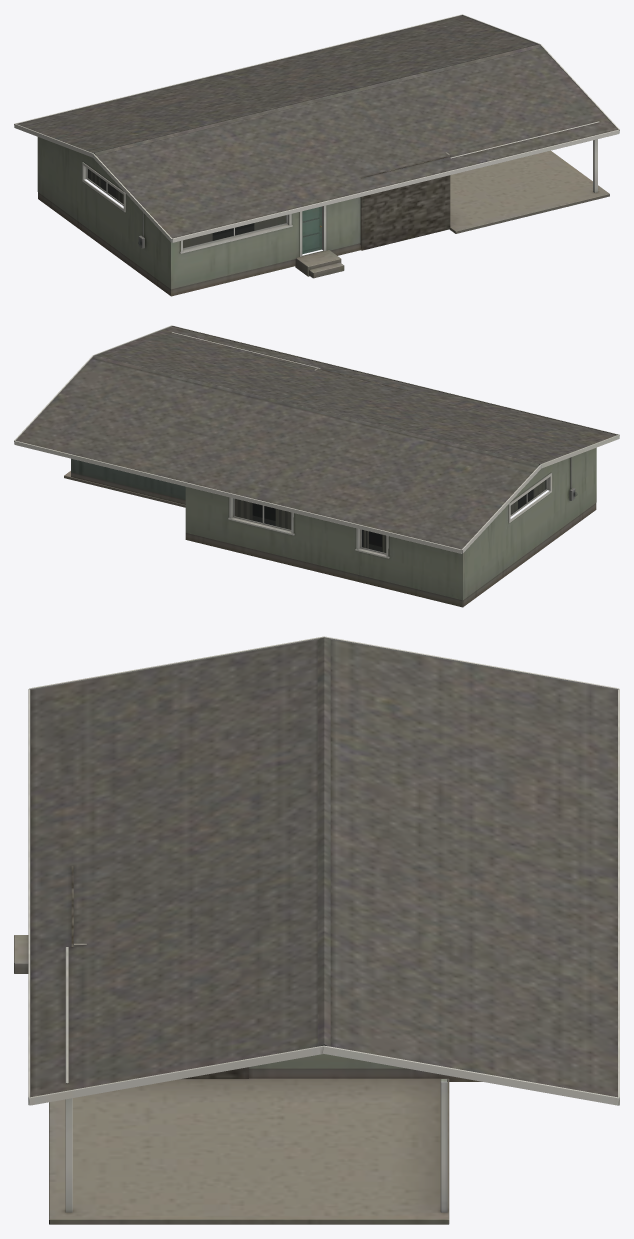
The model's file is ranch_carport-low.glb.
3 views of the same model, one above another, from view 1: azimuth 30°, elevation 25°; view 2: azimuth 150°, elevation 25°; view 3: azimuth 270°, elevation 25° (orthographic). The views are drawn at different scales.
Visible parts, largest first — view 1: ranch_carport; view 2: ranch_carport; view 3: ranch_carport.
Part boxes in pixels (x1,y1,x2,y2): ranch_carport: (14, 14, 619, 296); ranch_carport: (14, 325, 619, 607); ranch_carport: (14, 636, 619, 1224).
Size of the model in its own units: 19.4 by 4.1 by 12.11.
Materials: 2 (2 with a texture image).
